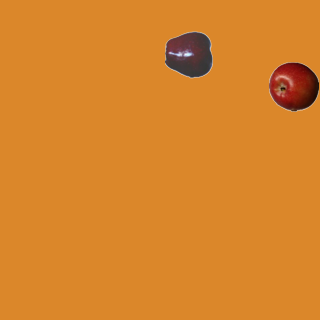Apple Braeburn: (268, 61, 318, 111)
Apple Red Delicious: (164, 29, 214, 79)
